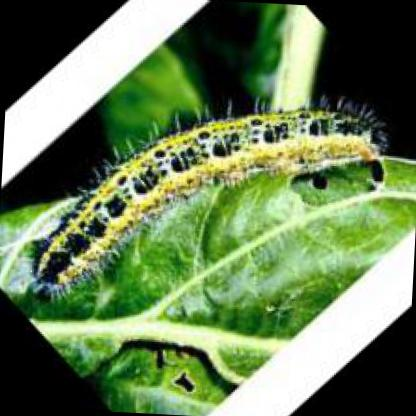pieris: (25, 104, 386, 300)
